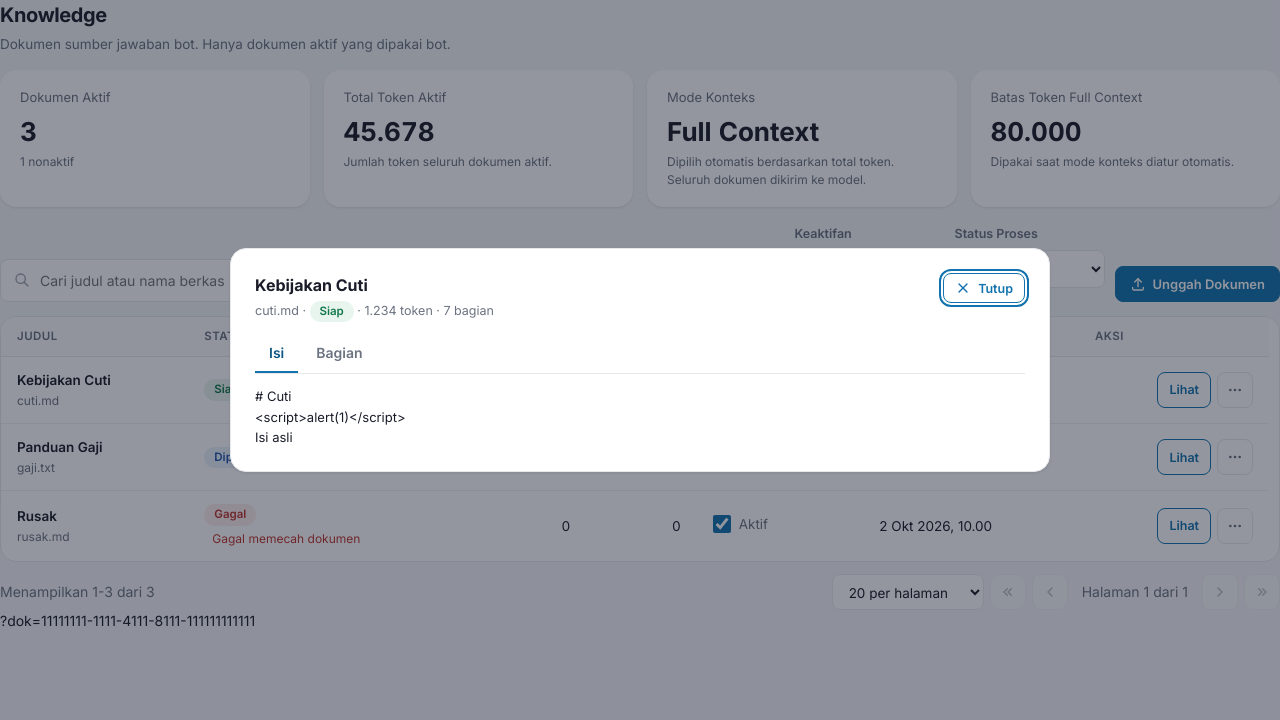
Scenario: Knowledge: rincian dokumen › tab Bagian menampilkan section berpaginasi dan masuk ke URL
Click the tab "Bagian". click: (339, 354)
box: x1=302 y1=334 x2=376 y2=373
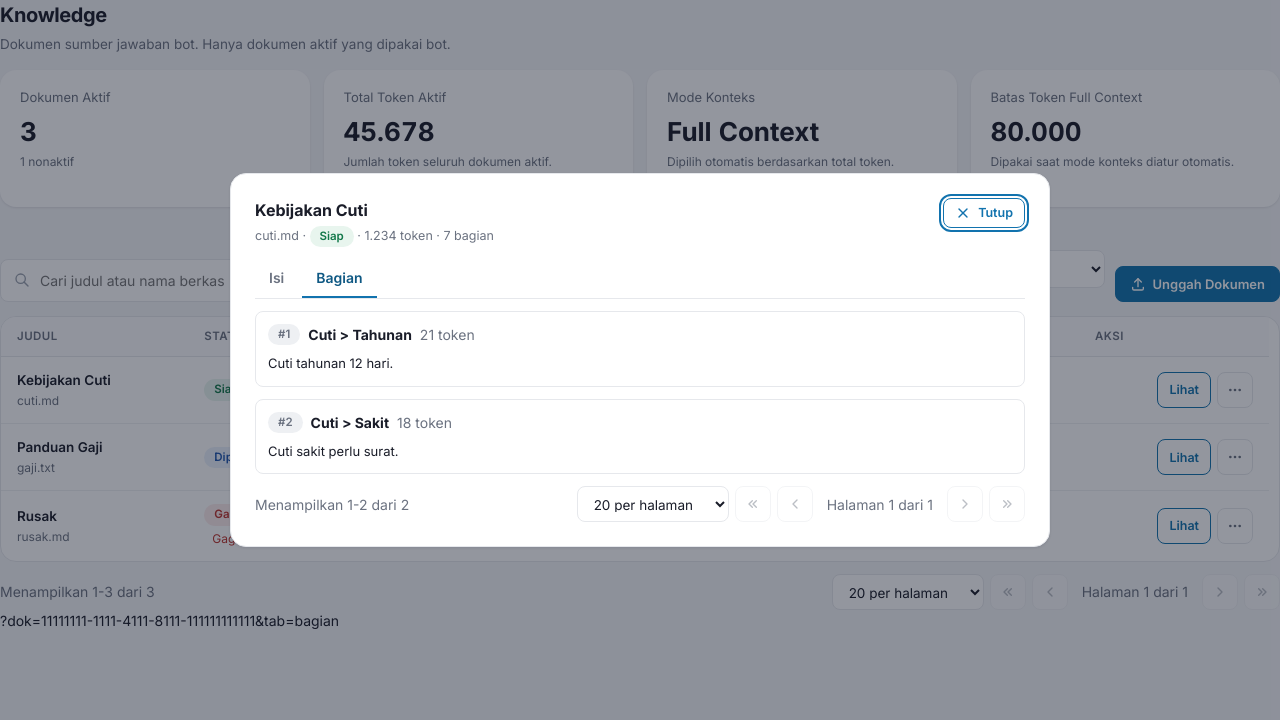
Expected: the text with test id "where" shows "tab=bagian", x1=0 y1=612 x2=339 y2=628
Expected: the text "Cuti > Tahunan" is shown, x1=308 y1=324 x2=412 y2=345
Expected: the text "Cuti tahunan 12 hari." is shown, x1=268 y1=356 x2=393 y2=372
